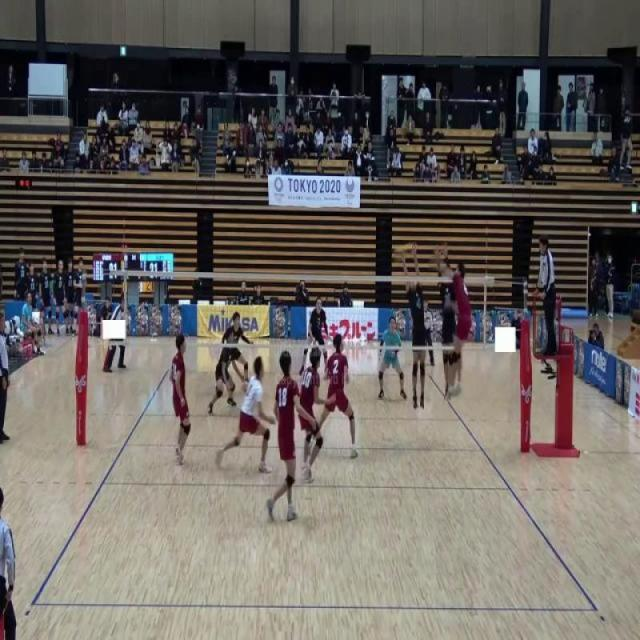volleyball: (394, 242, 414, 258)
